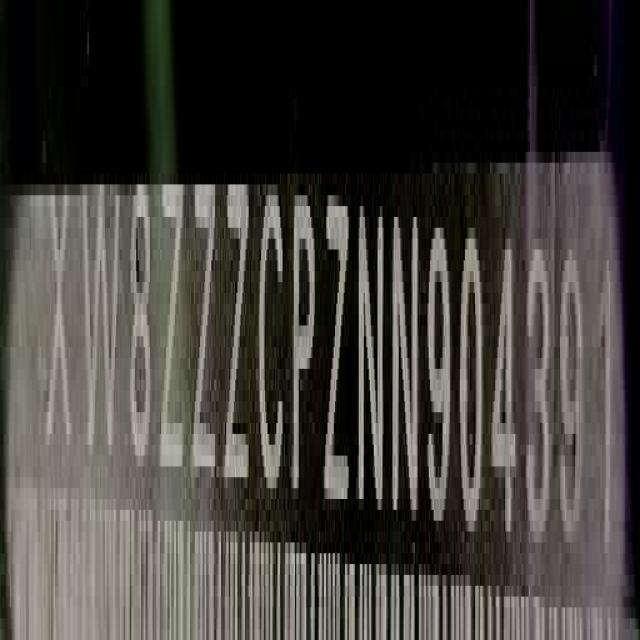0: (460, 222, 484, 543)
1: (596, 242, 620, 560)
3: (528, 245, 553, 550)
4: (493, 233, 521, 547)
8: (131, 179, 153, 473)
9: (558, 248, 584, 550), (427, 225, 452, 522)
C: (258, 183, 286, 502)
N: (358, 198, 385, 522), (392, 197, 418, 522)
P: (292, 181, 315, 502)
W: (81, 183, 123, 469)
X: (44, 186, 71, 474)
Z: (324, 177, 352, 522), (224, 181, 250, 502), (193, 179, 219, 496), (160, 181, 185, 485)
